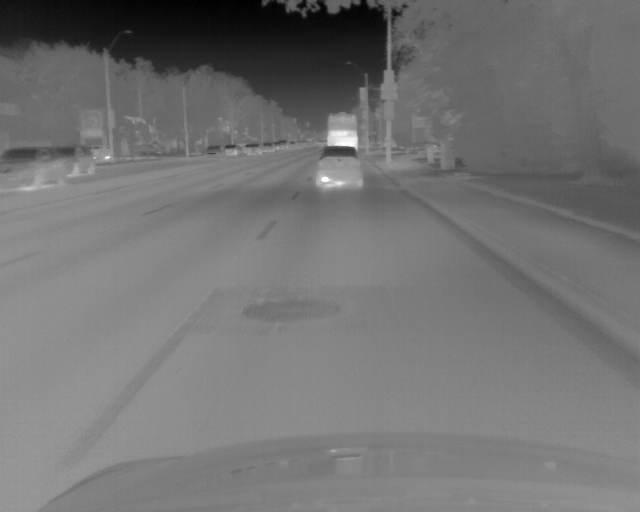car: (1, 148, 66, 195), (317, 145, 362, 188), (327, 111, 357, 151), (65, 144, 95, 178), (204, 145, 221, 161), (223, 144, 241, 157), (246, 144, 262, 156), (262, 142, 273, 153), (273, 141, 282, 152)
